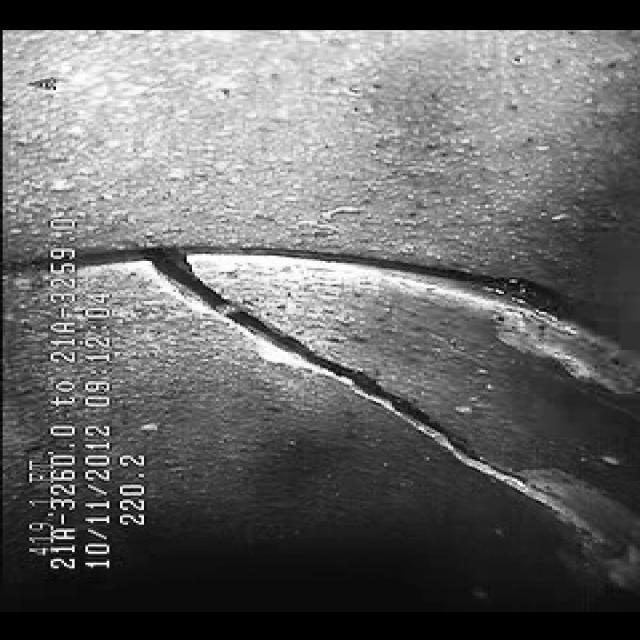Fracture: (154, 245, 606, 524)
